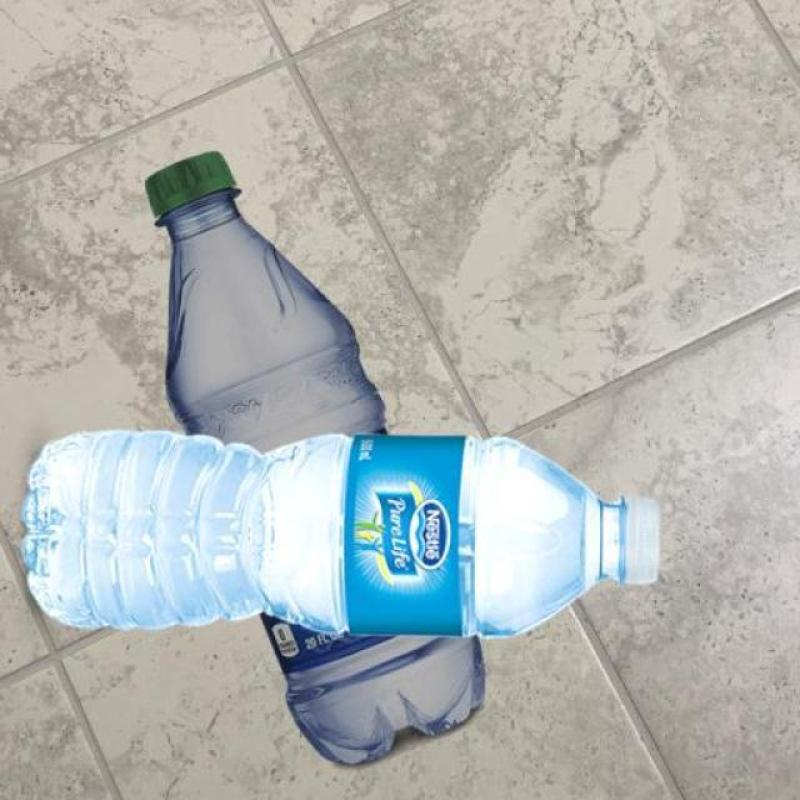botella: (142, 152, 488, 763), (23, 430, 664, 638)
